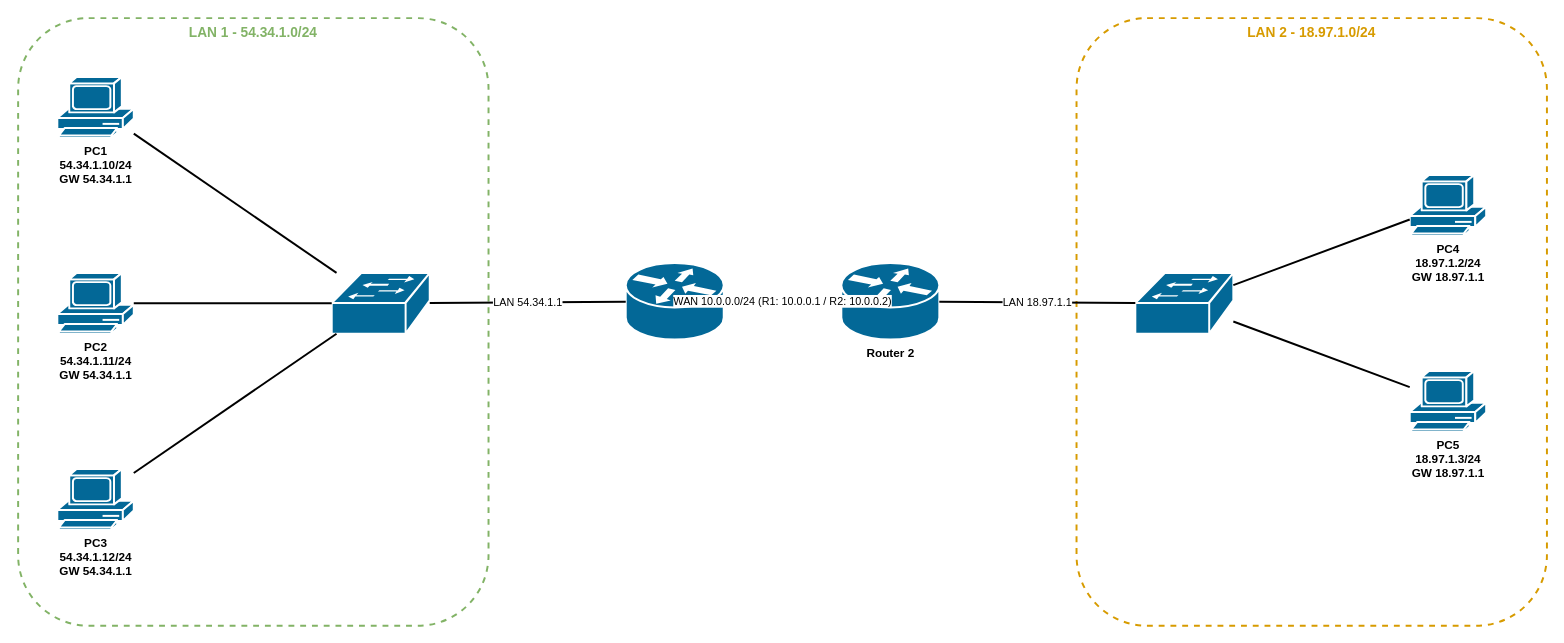
Some shapes in this 1564 by 643 pixel diagram are drawn without their labels. Here are the shapes that lost their labels. From the top down, the centre of each, then its label:
point (380, 302): Switch 1
point (674, 301): Router 1
point (1184, 302): Switch 2
